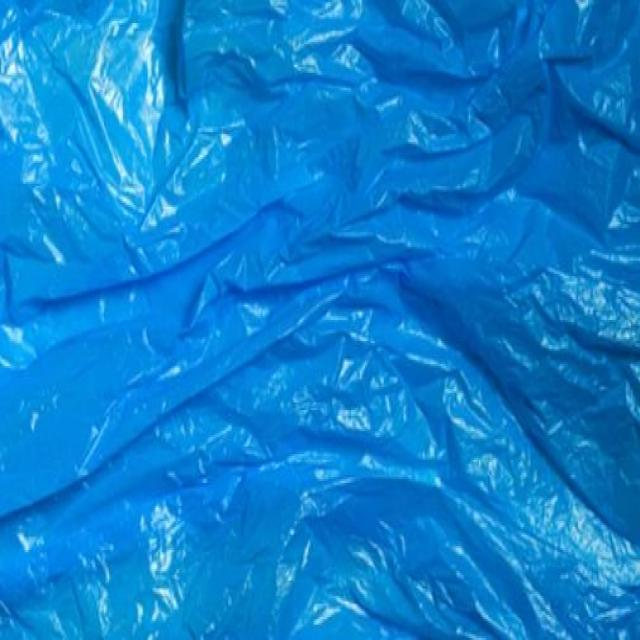general: (0, 0, 639, 638)
